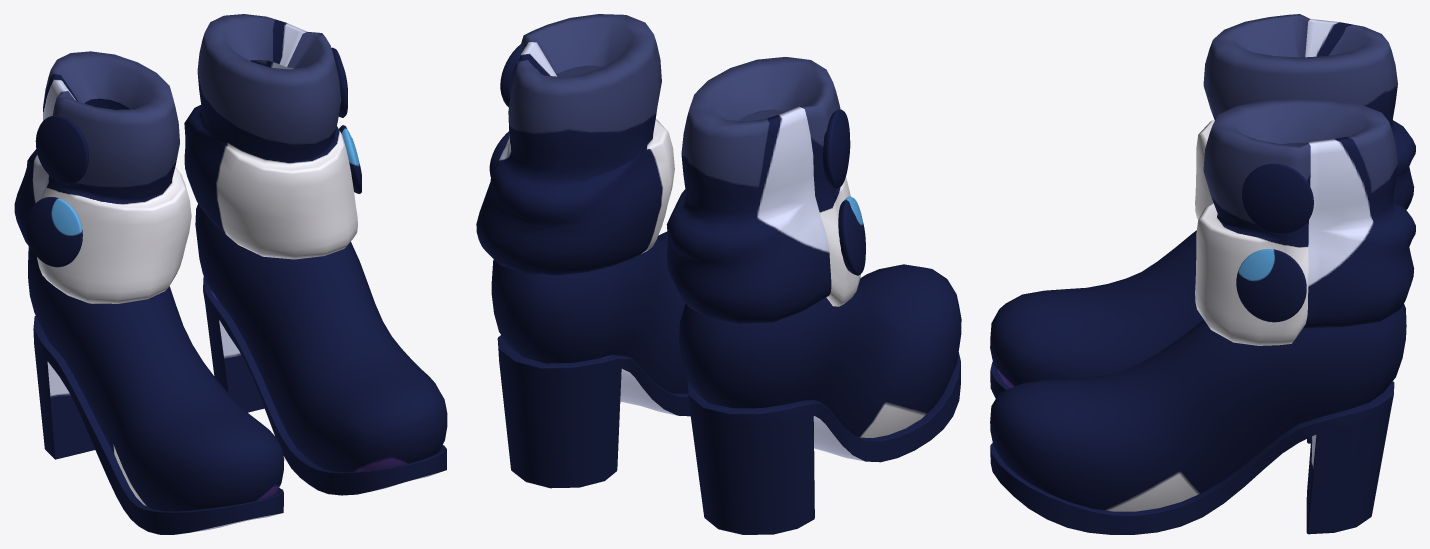
The model's file is shoes.fbx.
The picture shows the model from 3 angles, left to right: view 1: azimuth 30°, elevation 25°; view 2: azimuth 150°, elevation 25°; view 3: azimuth 270°, elevation 25°; orthographic projection. The views are drawn at different scales.
Parts seen in each view (by area): view 1: shoes_L_polySurface61 (×2), pCylinder26 (×2), pCylinder42 (×2), pCylinder41 (×2); view 2: shoes_L_polySurface61 (×2), pCylinder26 (×2), pCylinder41 (×2), pCylinder42; view 3: shoes_L_polySurface61 (×2), pCylinder26 (×2), pCylinder42, pCylinder41.
Part boxes in pixels (x1,y1,x2,y2): shoes_L_polySurface61 (×2): [28, 204, 447, 534]; pCylinder26 (×2): [14, 14, 357, 303]; pCylinder42 (×2): [26, 125, 361, 267]; pCylinder41 (×2): [35, 47, 347, 184]; shoes_L_polySurface61 (×2): [491, 231, 961, 534]; pCylinder26 (×2): [476, 14, 860, 323]; pCylinder41 (×2): [500, 44, 850, 188]; pCylinder42: [838, 196, 865, 275]; shoes_L_polySurface61 (×2): [990, 230, 1406, 534]; pCylinder26 (×2): [1195, 14, 1415, 345]; pCylinder42: [1236, 249, 1306, 322]; pCylinder41: [1242, 163, 1313, 233].
Bounding box in the file's own units: 11.3 × 12.19 × 12.2.
